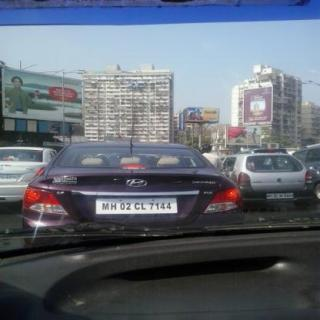Normal_vehicle: (22, 138, 244, 228)
